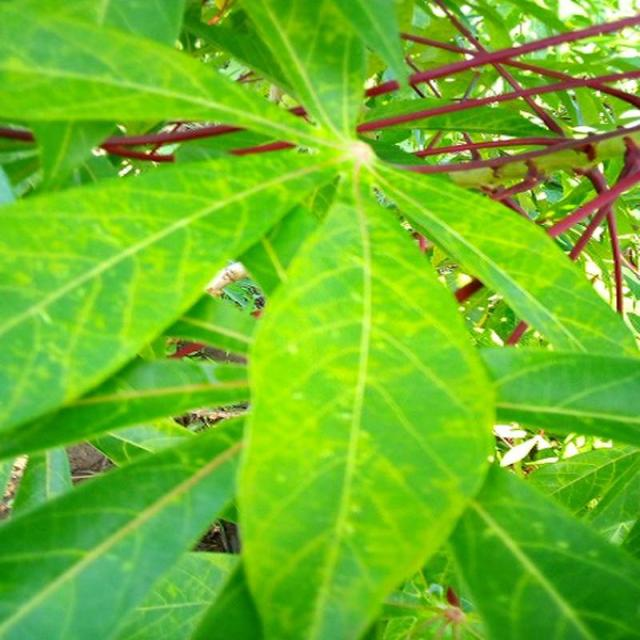cassava leaf: (0, 0, 638, 638), (234, 166, 496, 638)
